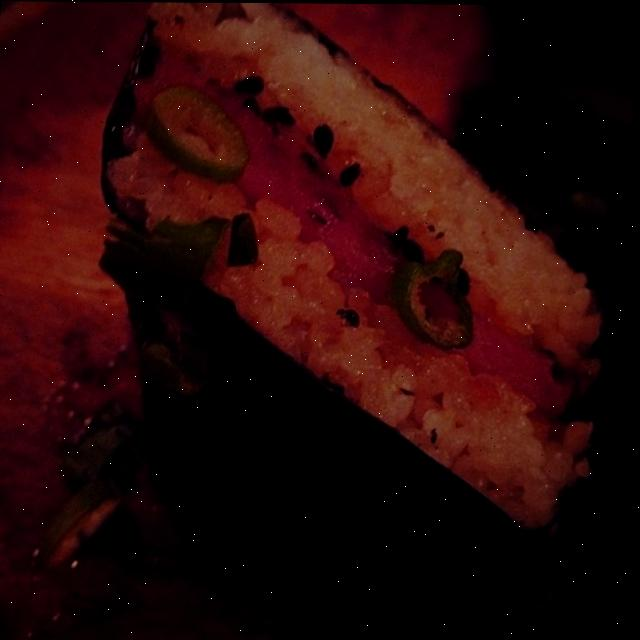寿司卷物: (49, 0, 625, 596)
